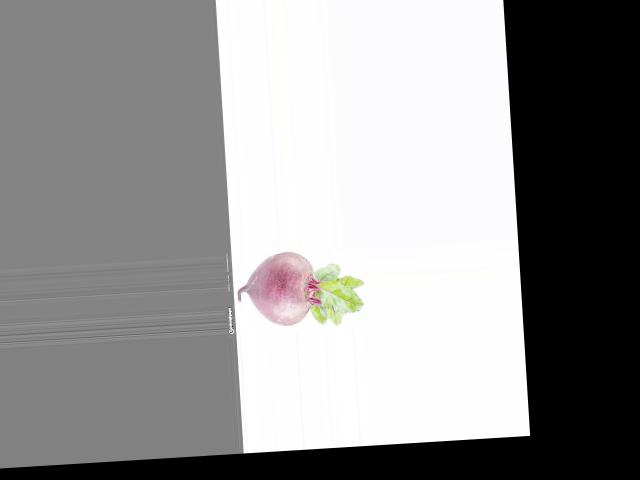beet: (236, 246, 366, 330)
